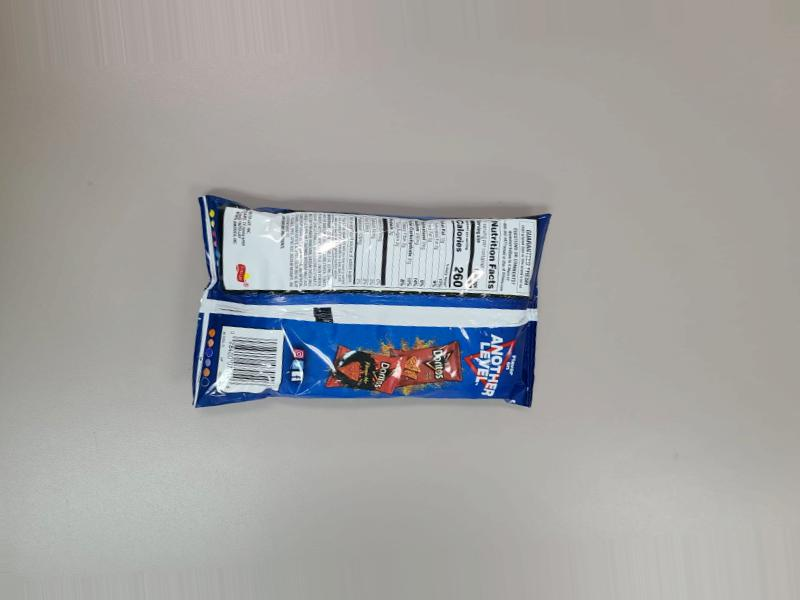doritos: (206, 196, 551, 438)
